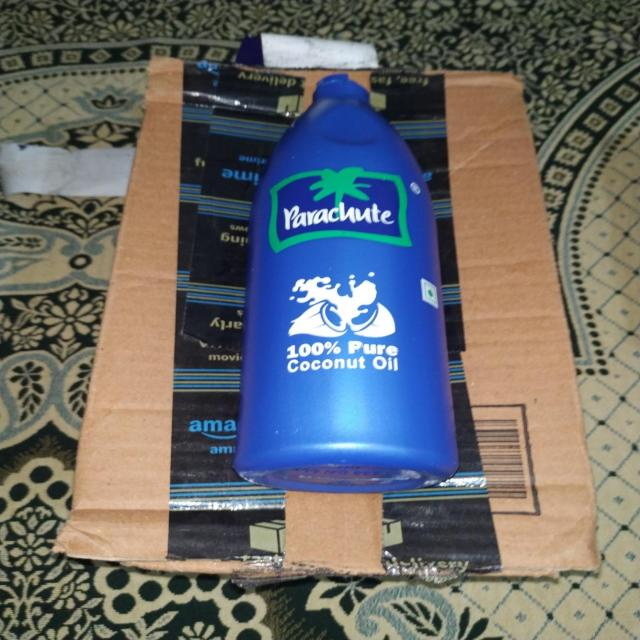parachute_oil: (222, 68, 490, 499)
